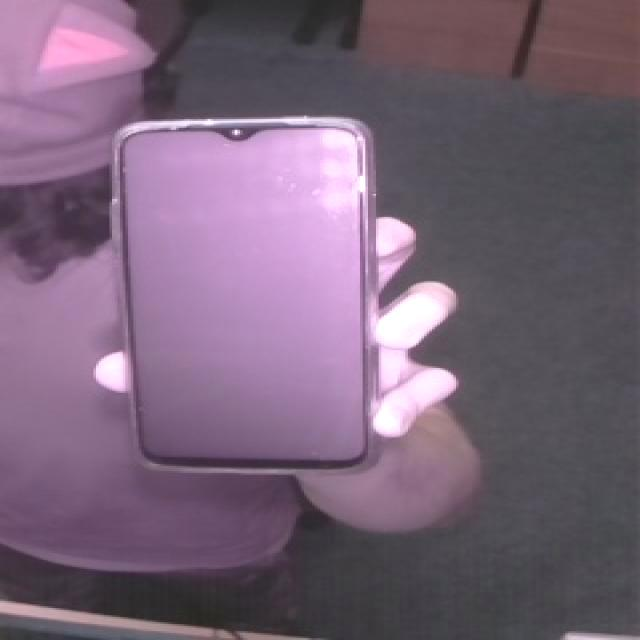phone: (94, 98, 401, 496)
